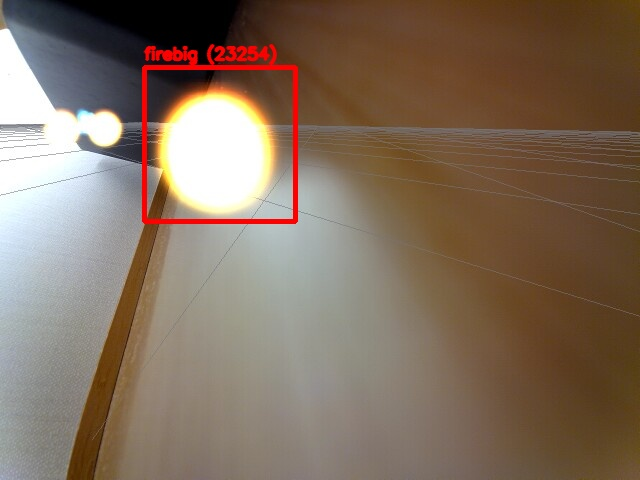firebig: (144, 67, 295, 221)
